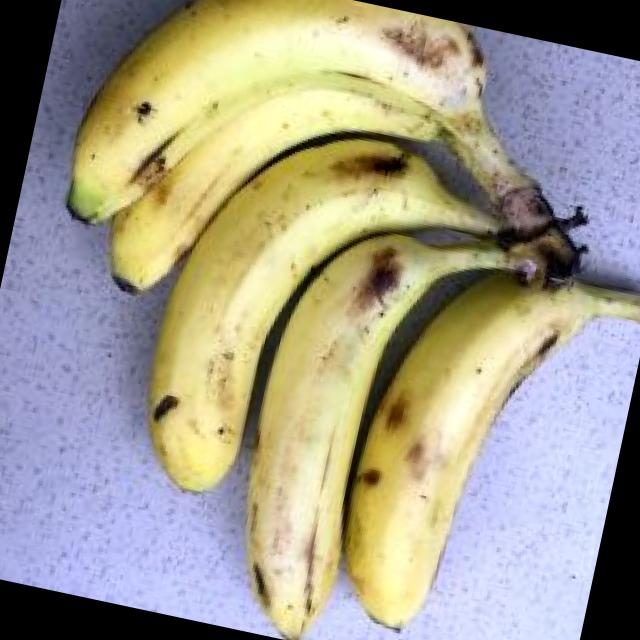banana: (43, 57, 581, 559)
